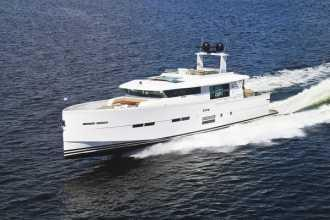yacht: (59, 35, 271, 153)
